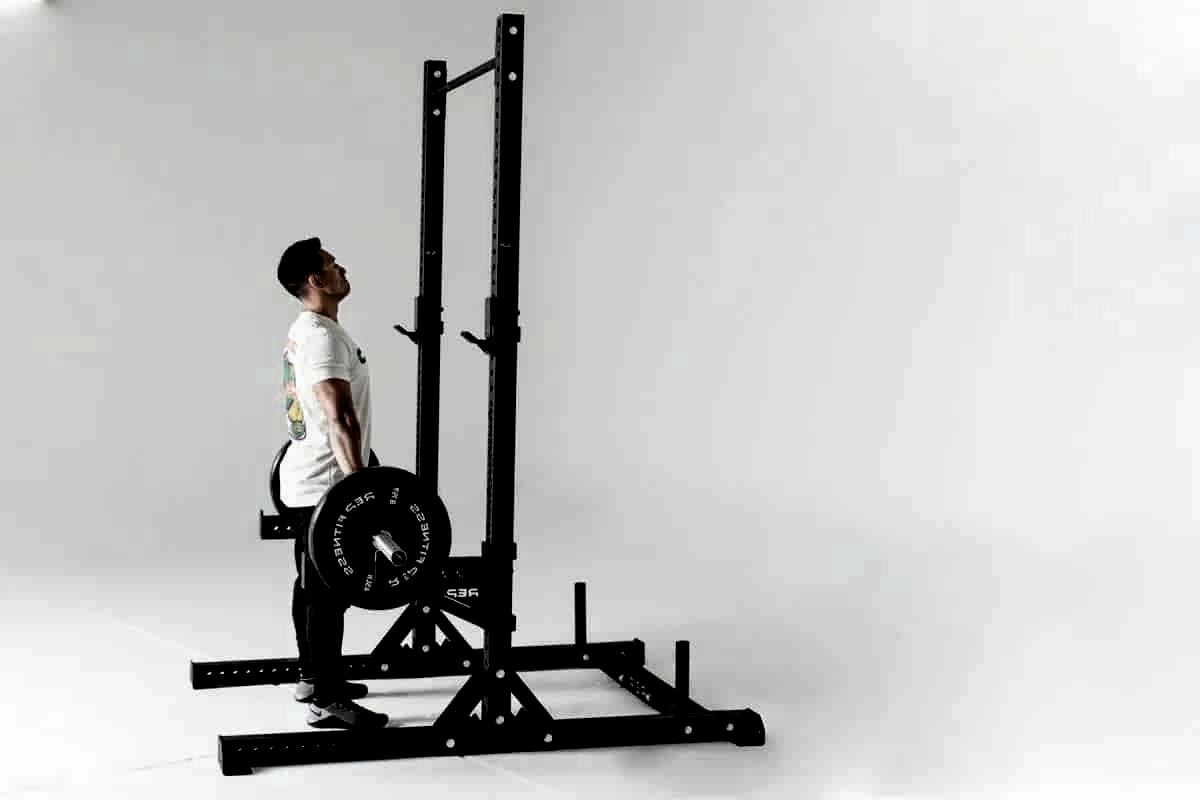Barbell: (376, 540, 416, 573)
